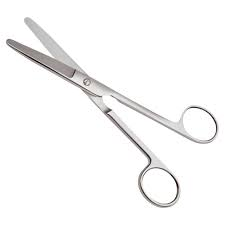tihiras: (1, 9, 223, 215)
